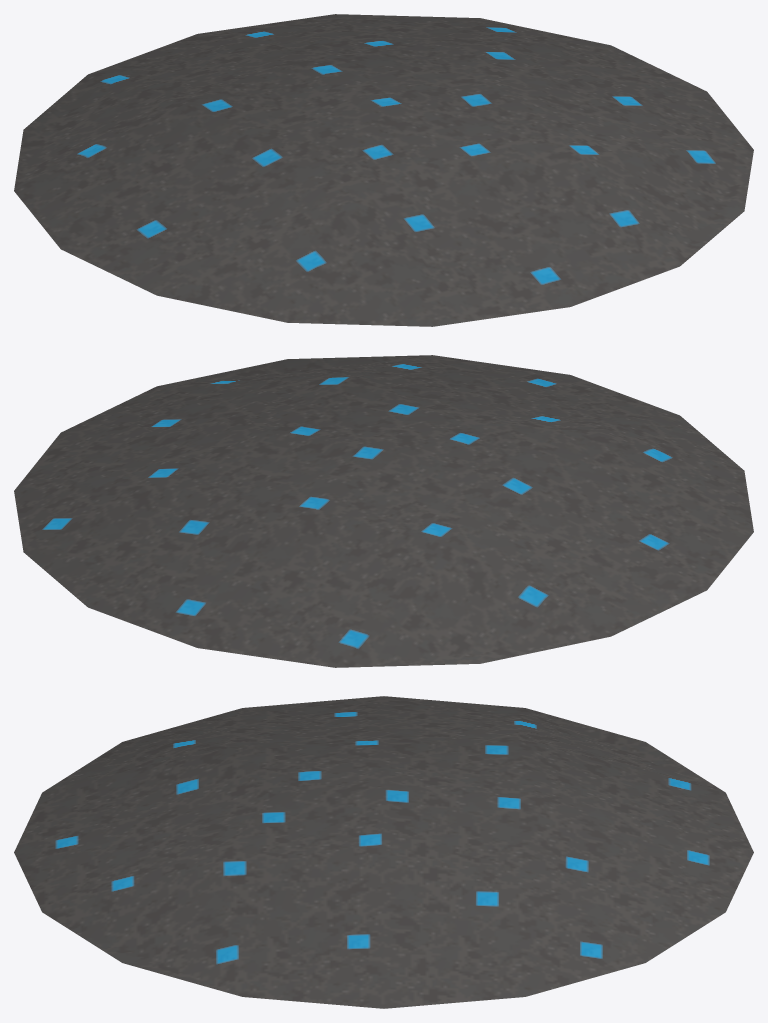
The model's file is CaveOre1.fbx.
The picture shows the model from 3 angles, top to bottom: view 1: azimuth 30°, elevation 25°; view 2: azimuth 150°, elevation 25°; view 3: azimuth 270°, elevation 25°; orthographic projection.
Parts seen in each view (by area): view 1: CaveOre1; view 2: CaveOre1; view 3: CaveOre1.
Part boxes in pixels (x1,y1,x2,y2): CaveOre1: (14, 14, 753, 326); CaveOre1: (14, 355, 753, 667); CaveOre1: (14, 696, 753, 1008).
Size of the model in its own units: 659 by 61.5 by 659.
1 material, 1 textured.
